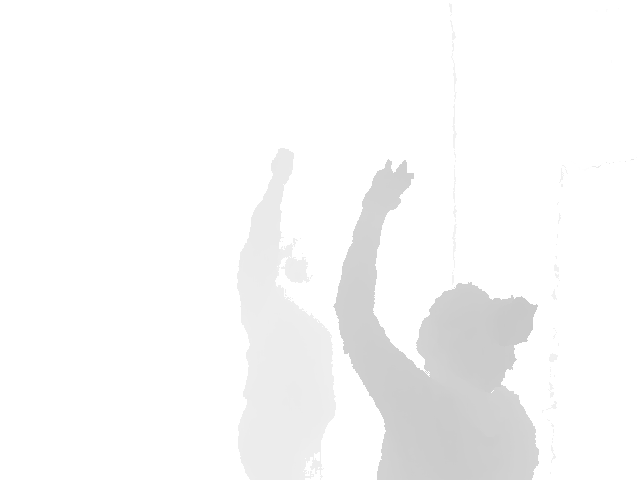hand: (361, 159, 414, 218), (270, 148, 294, 185)
head: (415, 281, 538, 392), (273, 232, 315, 292)
person: (331, 159, 541, 480), (235, 148, 339, 480)
